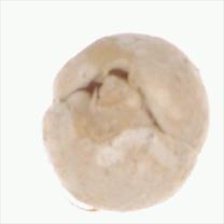L3: (70, 65, 160, 140)
L4: (42, 34, 211, 212)
